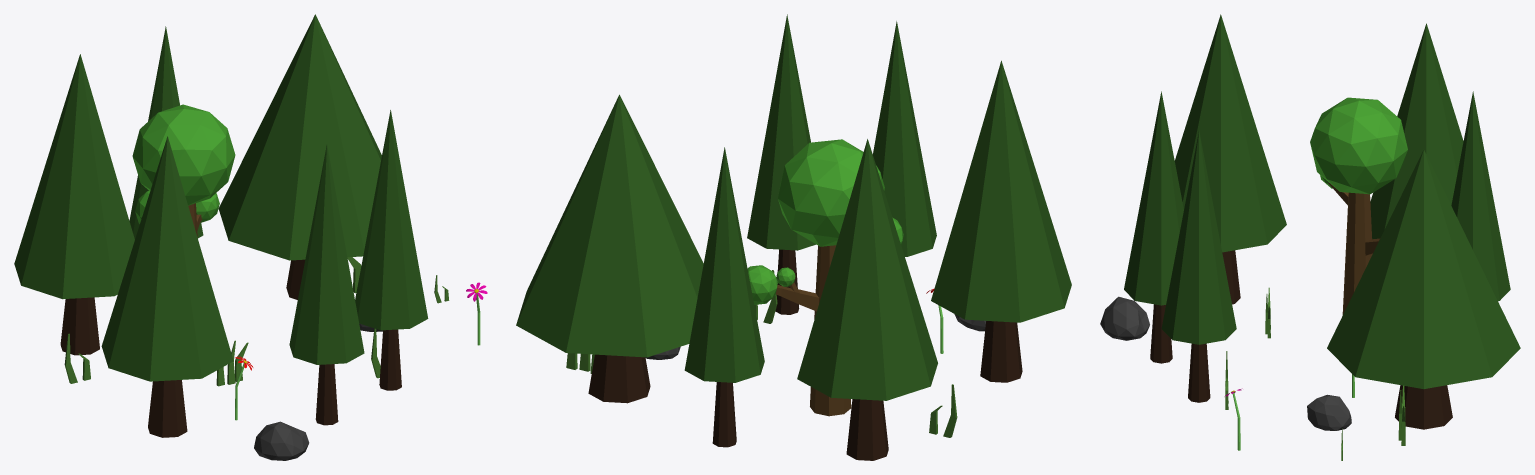
Rendered from treegroup.dae.
The picture shows the model from 3 angles, left to right: view 1: azimuth 30°, elevation 25°; view 2: azimuth 150°, elevation 25°; view 3: azimuth 270°, elevation 25°; orthographic projection. The views are drawn at different scales.
Visible parts, largest first — view 1: Cylinder_007, Cylinder_006, Cylinder_000, Cylinder_002, Cylinder_008, Cylinder_001, Cylinder_009, Icosphere, Cube, Cube_004; view 2: Cylinder_007, Cylinder_006, Cylinder_000, Cylinder_009, Cylinder_001, Cylinder_008, Cylinder_002, Cube_004; view 3: Cylinder_007, Cylinder_006, Cylinder_001, Cylinder_008, Cylinder_002, Cylinder_000, Cylinder_009, Icosphere, Icosphere_002.
Boxes of the visible parts, x1,y1,x2,y2 form: Cylinder_007: (218, 14, 381, 299); Cylinder_006: (101, 136, 233, 437); Cylinder_000: (14, 54, 134, 355); Cylinder_002: (289, 144, 364, 425); Cylinder_008: (355, 110, 428, 390); Cylinder_001: (132, 104, 235, 237); Cylinder_009: (129, 26, 203, 238); Icosphere: (254, 421, 309, 460); Cube: (216, 340, 248, 386); Cube_004: (64, 333, 90, 383); Cylinder_007: (516, 94, 703, 403); Cylinder_006: (931, 60, 1071, 382); Cylinder_000: (797, 139, 937, 460); Cylinder_009: (684, 147, 764, 447); Cylinder_001: (747, 139, 903, 416); Cylinder_008: (747, 14, 815, 314); Cylinder_002: (872, 21, 936, 256); Cube_004: (929, 384, 957, 437); Cylinder_007: (1327, 149, 1520, 429); Cylinder_006: (1174, 14, 1286, 304); Cylinder_001: (1310, 97, 1407, 314); Cylinder_008: (1161, 130, 1236, 402); Cylinder_002: (1124, 91, 1183, 363); Cylinder_000: (1370, 23, 1463, 239); Cylinder_009: (1451, 91, 1510, 301); Icosphere: (1100, 296, 1149, 340); Icosphere_002: (1307, 394, 1351, 430).
Bounding box in the file's own units: 17.01 × 15.9 × 11.96.
